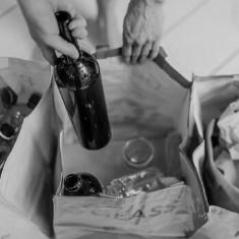glass: (52, 10, 115, 154), (62, 172, 102, 204)
